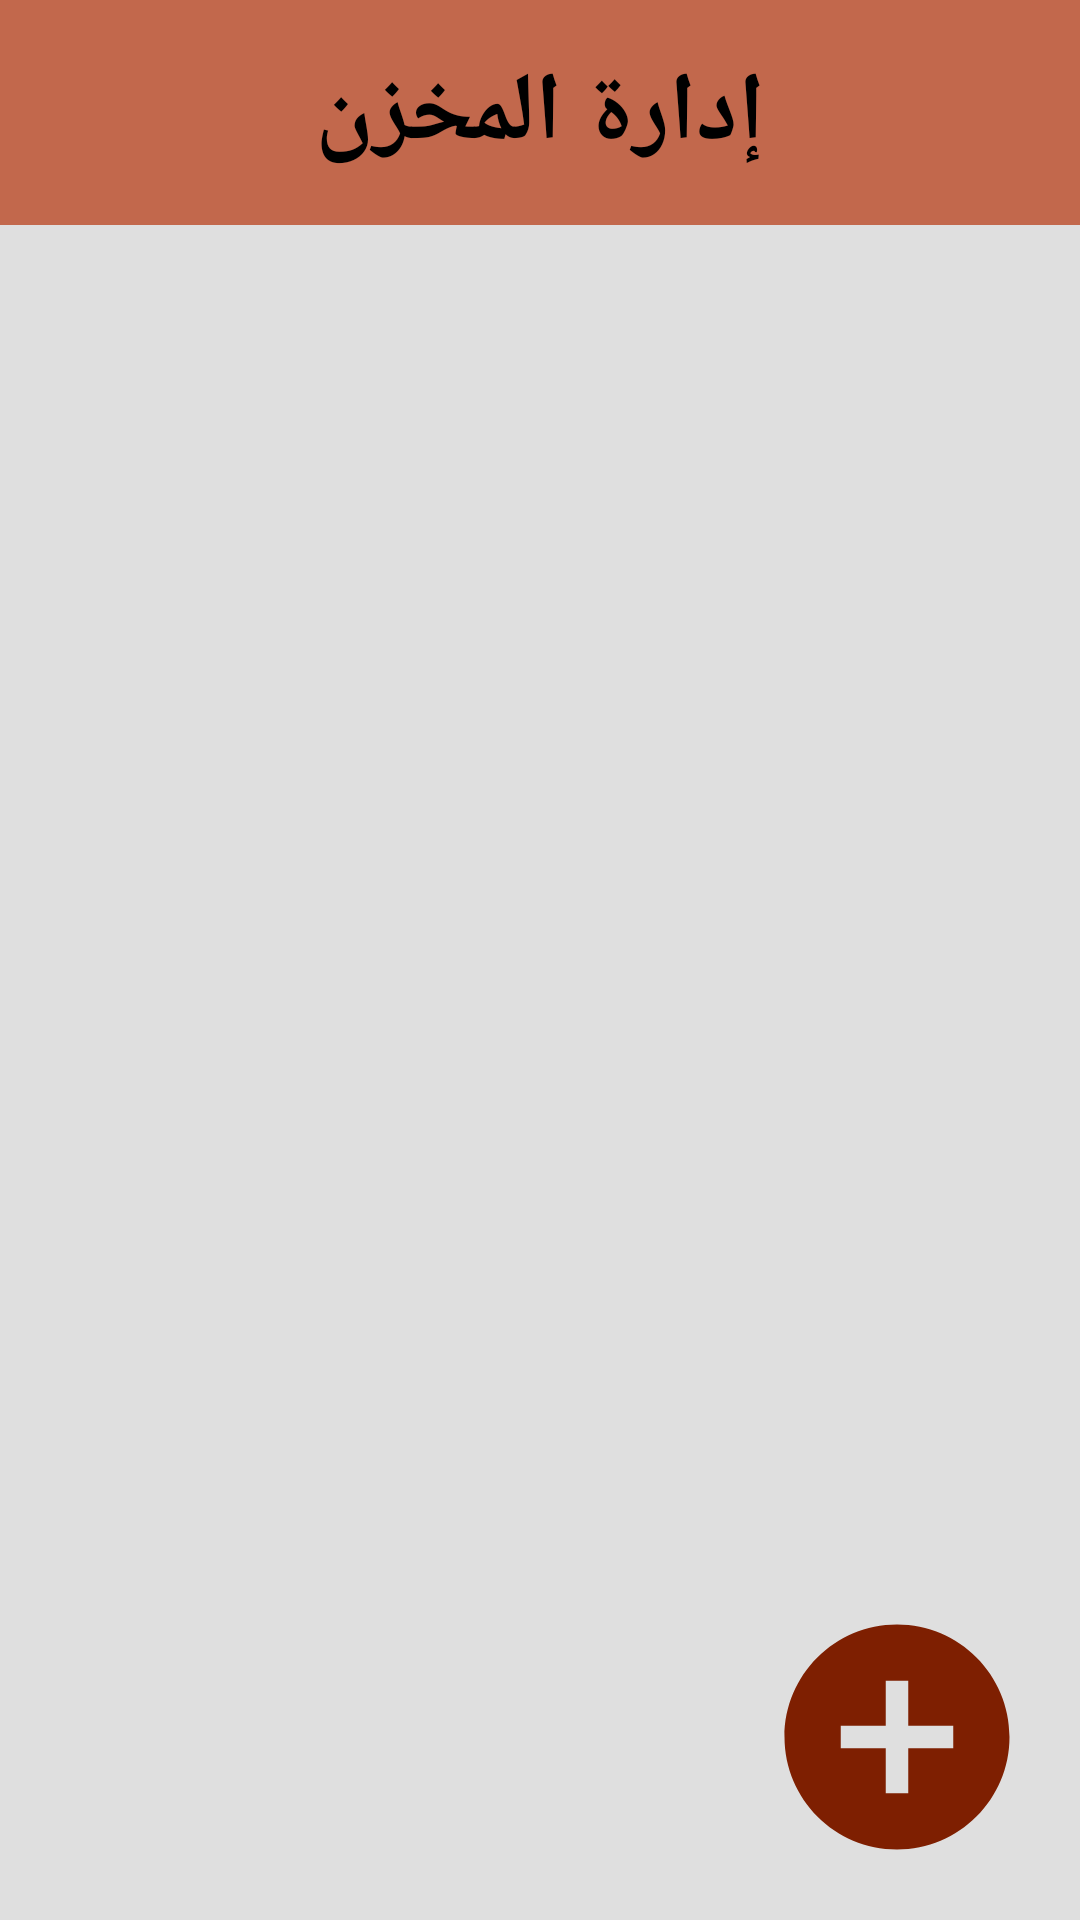

Icons on this 1080w x 1920h Android screen, each with its box as (x1, y1, x2, y2):
add circle: (784, 1624, 1010, 1850)
